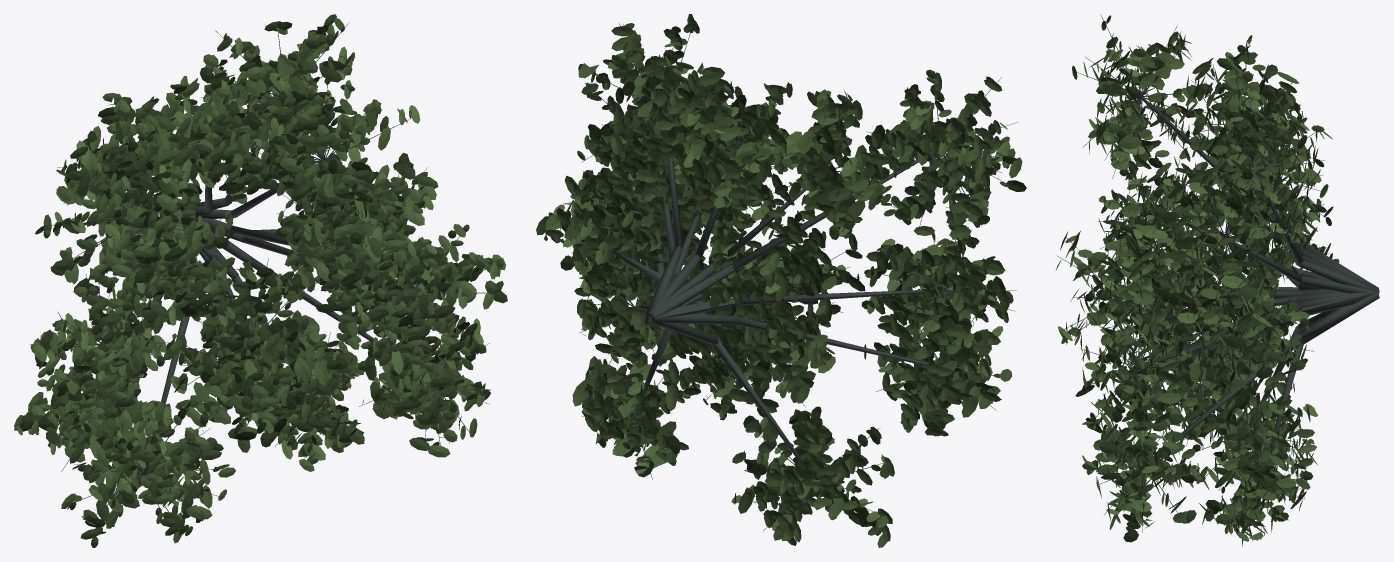
Rendered from tree_m0.obj.
3 views of the same model, side by side, from view 1: azimuth 30°, elevation 25°; view 2: azimuth 150°, elevation 25°; view 3: azimuth 270°, elevation 25° (orthographic). The views are drawn at different scales.
Bounding box in the file's own units: 1.61 × 1.69 × 1.02.
1 material, 1 textured.
